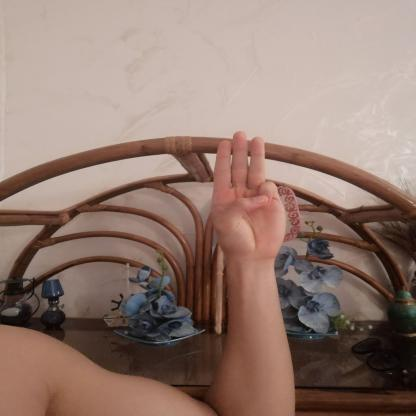THA: (195, 122, 299, 266)
